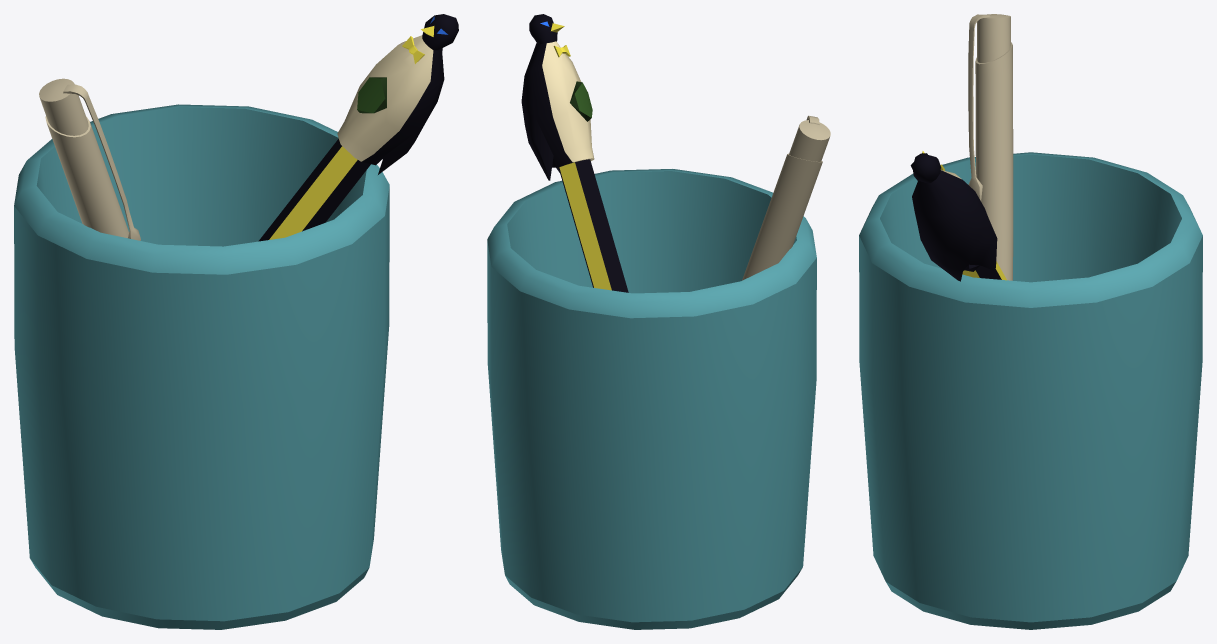
File: 165_pencil_jar.glb
The picture shows the model from 3 angles, left to right: view 1: azimuth 30°, elevation 25°; view 2: azimuth 150°, elevation 25°; view 3: azimuth 270°, elevation 25°; orthographic projection. The views are drawn at different scales.
Visible parts, largest first — view 1: jar, penguin, pen, pencil; view 2: jar, penguin, pen, pencil; view 3: jar, pen, penguin.
Boxes of the visible parts, x1,y1,x2,y2 form: jar: [14, 104, 389, 629]; penguin: [337, 14, 458, 174]; pen: [39, 78, 140, 240]; pencil: [258, 139, 370, 241]; jar: [487, 169, 816, 629]; penguin: [521, 14, 594, 180]; pen: [742, 115, 830, 280]; pencil: [558, 159, 628, 292]; jar: [859, 152, 1202, 629]; pen: [968, 14, 1013, 280]; penguin: [910, 151, 997, 281].
Size of the model in its own units: 0.2711 by 0.3706 by 0.2349.
